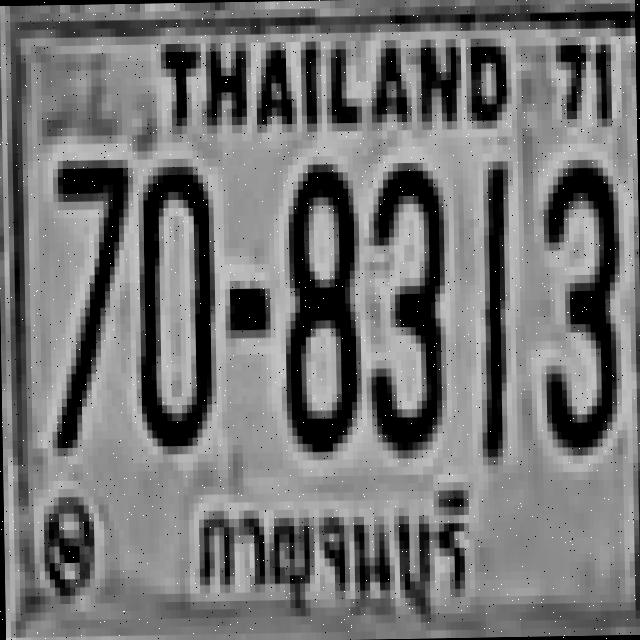0: (132, 162, 212, 442)
1: (478, 156, 508, 452)
3: (537, 150, 617, 448), (362, 154, 442, 442)
7: (47, 151, 127, 448)
8: (277, 156, 357, 444)
Kanchanaburi: (178, 470, 487, 624)
